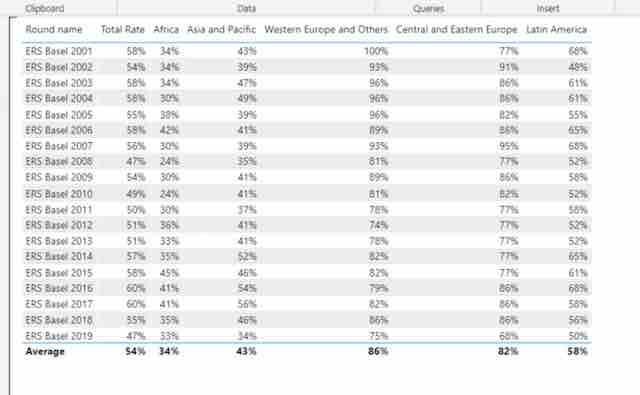

What the dashboard file says about the page in this screenshot:
{"tool":"powerbi","page":{"name":"Page 2","canvas":[1280,720],"ordinal":0},"visuals":[{"type":"tableEx","fields":{"Values":["vw_BC_Parties_ReportStatus.vw_GetERS_Surveys.Survey_Title","Avg(vw_BC_Parties_ReportStatus.Total_Rate)","Avg(vw_BC_Parties_ReportStatus.R1_Rate)","Avg(vw_BC_Parties_ReportStatus.R2_Rate)","Avg(vw_BC_Parties_ReportStatus.R3_Rate)","Avg(vw_BC_Parties_ReportStatus.R4_Rate)","Avg(vw_BC_Parties_ReportStatus.R5_Rate)"]},"box":[10.2,0,1000.6,721.3],"z":0}]}

Visuals, with their boxes on the page's 1280x720 design canvas (x1, y1, x2, y2). These are canvas units, not pixel positions in the 640x395 screenshot, which may show the page scaled, cropped or inside an application window:
tableEx - vw_BC_Parties_ReportStatus.vw_GetERS_Surveys.Survey_Title x Avg(vw_BC_Parties_ReportStatus.Total_Rate): l=10, t=0, r=1011, b=721
